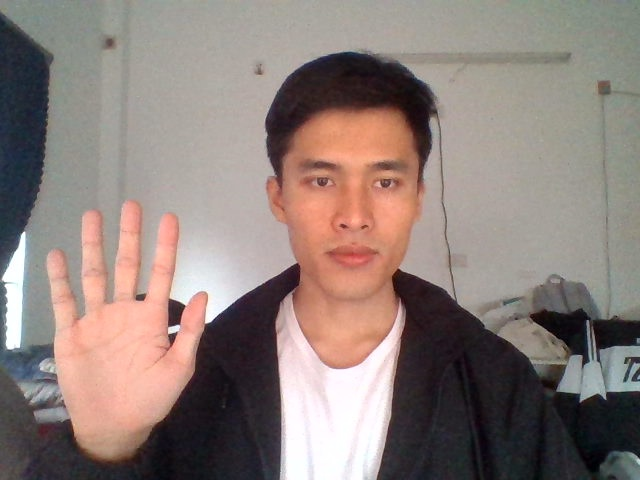Hello: (42, 196, 212, 436)
